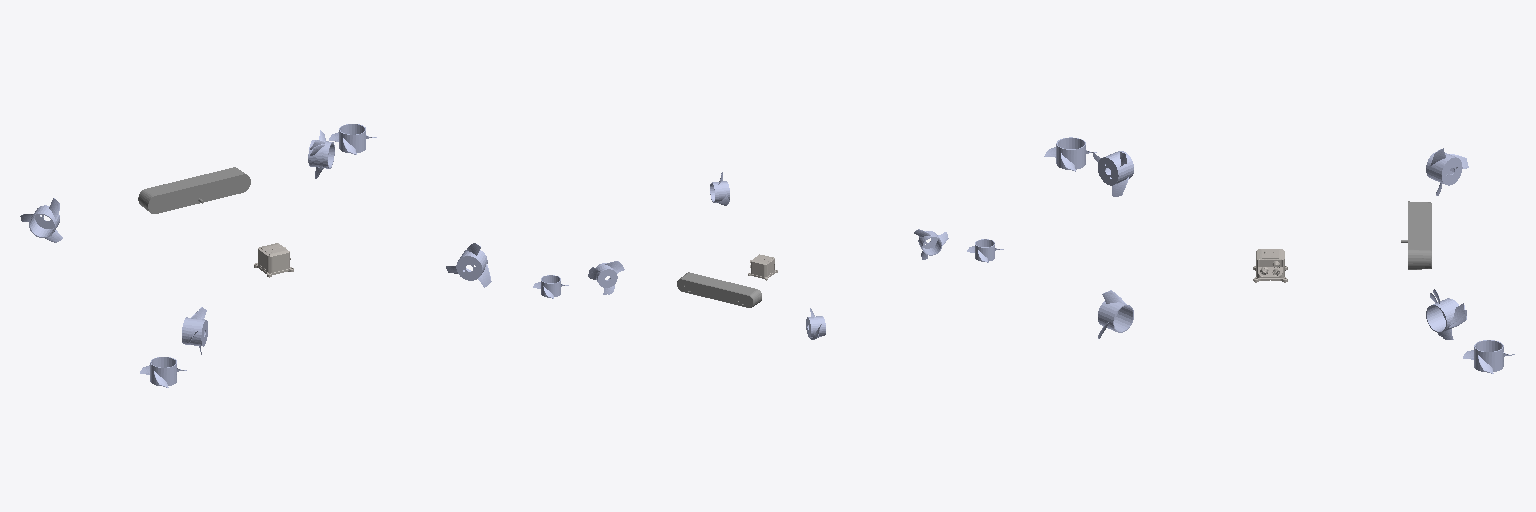
URDF robot description (lazershark_sim):
<?xml version="1.0" encoding="utf-8"?>
<!-- This URDF was automatically created by SolidWorks to URDF Exporter! Originally created by Stephen Brawner ([email redacted]) 
     Commit Version: 1.6.0-4-g7f85cfe  Build Version: 1.6.7995.38578
     For more information, please see http://wiki.ros.org/sw_urdf_exporter -->
<robot
  name="lazershark_sim">
  <link
    name="base_link">
    <inertial>
      <origin
        xyz="3.1983252038722E-05 -0.00264590585142523 0.00263265439840717"
        rpy="0 0 0" />
      <mass
        value="5.76928449442786" />
      <inertia
        ixx="0.0592660170923199"
        ixy="-5.19155843594581E-12"
        ixz="-2.08959913557192E-13"
        iyy="0.0385938644471916"
        iyz="-1.90870298266648E-12"
        izz="0.0948894530293094" />
    </inertial>
    <visual>
      <origin
        xyz="0 0 0"
        rpy="0 0 0" />
      <geometry>
        <mesh
          filename="package://lazershark_sim/meshes/base_link.STL" />
      </geometry>
      <material
        name="">
        <color
          rgba="0.792156862745098 0.819607843137255 0.933333333333333 1" />
      </material>
    </visual>
    <collision>
      <origin
        xyz="0 0 0"
        rpy="0 0 0" />
      <geometry>
        <mesh
          filename="package://lazershark_sim/meshes/base_link.STL" />
      </geometry>
    </collision>
  </link>
  <link
    name="thruster_0">
    <inertial>
      <origin
        xyz="0.323783939287788 0.276259194388449 -0.0173777665067433"
        rpy="0 0 0" />
      <mass
        value="0.0077410181298602" />
      <inertia
        ixx="2.20800164383444E-06"
        ixy="1.14679627175493E-09"
        ixz="-2.39625705290251E-12"
        iyy="2.20699645516669E-06"
        iyz="1.6744887682856E-11"
        izz="3.21541272846937E-06" />
    </inertial>
    <visual>
      <origin
        xyz="0 0 0"
        rpy="0 0 0" />
      <geometry>
        <mesh
          filename="package://lazershark_sim/meshes/thruster_0.STL" />
      </geometry>
      <material
        name="">
        <color
          rgba="0.792156862745098 0.819607843137255 0.933333333333333 1" />
      </material>
    </visual>
    <collision>
      <origin
        xyz="0 0 0"
        rpy="0 0 0" />
      <geometry>
        <mesh
          filename="package://lazershark_sim/meshes/thruster_0.STL" />
      </geometry>
    </collision>
  </link>
  <joint
    name="thruster_joint_0"
    type="revolute">
    <origin
      xyz="0 0 0"
      rpy="0 0 0" />
    <parent
      link="base_link" />
    <child
      link="thruster_0" />
    <axis
      xyz="0 0 -1" />
    <limit
      lower="0"
      upper="30"
      effort="5"
      velocity="5" />
  </joint>
  <link
    name="thruster_1">
    <inertial>
      <origin
        xyz="0.23416 0.21739 0.0043774"
        rpy="0 0 0" />
      <mass
        value="0.0077421" />
      <inertia
        ixx="2.7116E-06"
        ixy="-5.0428E-07"
        ixz="5.3313E-10"
        iyy="2.7116E-06"
        iyz="4.4067E-10"
        izz="2.2082E-06" />
    </inertial>
    <visual>
      <origin
        xyz="0 0 0"
        rpy="0 0 0" />
      <geometry>
        <mesh
          filename="package://lazershark_sim/meshes/thruster_1.STL" />
      </geometry>
      <material
        name="">
        <color
          rgba="0.79216 0.81961 0.93333 1" />
      </material>
    </visual>
    <collision>
      <origin
        xyz="0 0 0"
        rpy="0 0 0" />
      <geometry>
        <mesh
          filename="package://lazershark_sim/meshes/thruster_1.STL" />
      </geometry>
    </collision>
  </link>
  <joint
    name="thruster_joint_1"
    type="revolute">
    <origin
      xyz="0 0 0"
      rpy="0 0 0" />
    <parent
      link="base_link" />
    <child
      link="thruster_1" />
    <axis
      xyz="-0.707106781186549 0.707106781186546 0" />
    <limit
      lower="0"
      upper="30"
      effort="5"
      velocity="5" />
  </joint>
  <link
    name="thruster_2">
    <inertial>
      <origin
        xyz="0.234157626237456 -0.229457744082739 0.00437406128425808"
        rpy="0 0 0" />
      <mass
        value="0.00774117141861991" />
      <inertia
        ixx="2.71149324275063E-06"
        ixy="5.03800307022355E-07"
        ixz="5.48045183010676E-10"
        iyy="2.71144419395605E-06"
        iyz="-5.57345964414083E-10"
        izz="2.20720919053482E-06" />
    </inertial>
    <visual>
      <origin
        xyz="0 0 0"
        rpy="0 0 0" />
      <geometry>
        <mesh
          filename="package://lazershark_sim/meshes/thruster_2.STL" />
      </geometry>
      <material
        name="">
        <color
          rgba="0.792156862745098 0.819607843137255 0.933333333333333 1" />
      </material>
    </visual>
    <collision>
      <origin
        xyz="0 0 0"
        rpy="0 0 0" />
      <geometry>
        <mesh
          filename="package://lazershark_sim/meshes/thruster_2.STL" />
      </geometry>
    </collision>
  </link>
  <joint
    name="thruster_joint_2"
    type="revolute">
    <origin
      xyz="0 0 0"
      rpy="0 0 0" />
    <parent
      link="base_link" />
    <child
      link="thruster_2" />
    <axis
      xyz="-0.707106781186544 -0.707106781186551 0" />
    <limit
      lower="0"
      upper="30"
      effort="5"
      velocity="5" />
  </joint>
  <link
    name="thruster_3">
    <inertial>
      <origin
        xyz="-0.234092984343292 -0.229456600348887 0.00437741205399081"
        rpy="0 0 0" />
      <mass
        value="0.00774208667120787" />
      <inertia
        ixx="2.7116145591577E-06"
        ixy="-5.04278878343059E-07"
        ixz="-5.32978321791195E-10"
        iyy="2.71159769781301E-06"
        iyz="-4.40645678582506E-10"
        izz="2.20821716534477E-06" />
    </inertial>
    <visual>
      <origin
        xyz="0 0 0"
        rpy="0 0 0" />
      <geometry>
        <mesh
          filename="package://lazershark_sim/meshes/thruster_3.STL" />
      </geometry>
      <material
        name="">
        <color
          rgba="0.792156862745098 0.819607843137255 0.933333333333333 1" />
      </material>
    </visual>
    <collision>
      <origin
        xyz="0 0 0"
        rpy="0 0 0" />
      <geometry>
        <mesh
          filename="package://lazershark_sim/meshes/thruster_3.STL" />
      </geometry>
    </collision>
  </link>
  <joint
    name="thruster_joint_3"
    type="continuous">
    <origin
      xyz="0 0 0"
      rpy="0 0 0" />
    <parent
      link="base_link" />
    <child
      link="thruster_3" />
    <axis
      xyz="0.707106781186551 -0.707106781186544 0" />
    <limit
      lower="0"
      upper="30"
      effort="5"
      velocity="5" />
  </joint>
  <link
    name="thruster_4">
    <inertial>
      <origin
        xyz="0.323785318854056 -0.288321054570899 -0.0173774496220339"
        rpy="0 0 0" />
      <mass
        value="0.00773999758129765" />
      <inertia
        ixx="2.20644702020723E-06"
        ixy="9.77384809847219E-11"
        ixz="-1.65398212635207E-11"
        iyy="2.20797104418765E-06"
        iyz="-7.26901607289363E-12"
        izz="3.2148306516272E-06" />
    </inertial>
    <visual>
      <origin
        xyz="0 0 0"
        rpy="0 0 0" />
      <geometry>
        <mesh
          filename="package://lazershark_sim/meshes/thruster_4.STL" />
      </geometry>
      <material
        name="">
        <color
          rgba="0.792156862745098 0.819607843137255 0.933333333333333 1" />
      </material>
    </visual>
    <collision>
      <origin
        xyz="0 0 0"
        rpy="0 0 0" />
      <geometry>
        <mesh
          filename="package://lazershark_sim/meshes/thruster_4.STL" />
      </geometry>
    </collision>
  </link>
  <joint
    name="thruster_joint_4"
    type="revolute">
    <origin
      xyz="0 0 0"
      rpy="0 0 0" />
    <parent
      link="base_link" />
    <child
      link="thruster_4" />
    <axis
      xyz="0 0 -1" />
    <limit
      lower="0"
      upper="30"
      effort="5"
      velocity="5" />
  </joint>
  <link
    name="thruster_5">
    <inertial>
      <origin
        xyz="-0.234091044934303 0.217389360781946 0.00437544851520705"
        rpy="0 0 0" />
      <mass
        value="0.00774152572047315" />
      <inertia
        ixx="2.71170960756965E-06"
        ixy="5.03685533391387E-07"
        ixz="-2.76374605222843E-10"
        iyy="2.7117423364615E-06"
        iyz="2.26652392888892E-10"
        izz="2.20699309720568E-06" />
    </inertial>
    <visual>
      <origin
        xyz="0 0 0"
        rpy="0 0 0" />
      <geometry>
        <mesh
          filename="package://lazershark_sim/meshes/thruster_5.STL" />
      </geometry>
      <material
        name="">
        <color
          rgba="0.792156862745098 0.819607843137255 0.933333333333333 1" />
      </material>
    </visual>
    <collision>
      <origin
        xyz="0 0 0"
        rpy="0 0 0" />
      <geometry>
        <mesh
          filename="package://lazershark_sim/meshes/thruster_5.STL" />
      </geometry>
    </collision>
  </link>
  <joint
    name="thruster_joint_5"
    type="revolute">
    <origin
      xyz="0 0 0"
      rpy="0 0 0" />
    <parent
      link="base_link" />
    <child
      link="thruster_5" />
    <axis
      xyz="0.70711 0.70711 0" />
    <limit
      lower="0"
      upper="30"
      effort="5"
      velocity="5" />
  </joint>
  <link
    name="thruster_6">
    <inertial>
      <origin
        xyz="-0.323718738672314 -0.28832105720429 -0.0173774499441253"
        rpy="0 0 0" />
      <mass
        value="0.00773999839485437" />
      <inertia
        ixx="2.20644757938054E-06"
        ixy="9.74818950015758E-11"
        ixz="-1.6566588274953E-11"
        iyy="2.20797120661092E-06"
        iyz="-7.34282298278948E-12"
        izz="3.21483134700482E-06" />
    </inertial>
    <visual>
      <origin
        xyz="0 0 0"
        rpy="0 0 0" />
      <geometry>
        <mesh
          filename="package://lazershark_sim/meshes/thruster_6.STL" />
      </geometry>
      <material
        name="">
        <color
          rgba="0.792156862745098 0.819607843137255 0.933333333333333 1" />
      </material>
    </visual>
    <collision>
      <origin
        xyz="0 0 0"
        rpy="0 0 0" />
      <geometry>
        <mesh
          filename="package://lazershark_sim/meshes/thruster_6.STL" />
      </geometry>
    </collision>
  </link>
  <joint
    name="thruster_joint_6"
    type="revolute">
    <origin
      xyz="0 0 0"
      rpy="0 0 0" />
    <parent
      link="base_link" />
    <child
      link="thruster_6" />
    <axis
      xyz="0 0 -1" />
    <limit
      lower="0"
      upper="30"
      effort="5"
      velocity="5" />
  </joint>
  <link
    name="thruster_7">
    <inertial>
      <origin
        xyz="-0.323718740168811 0.276254477405549 -0.0173774502964883"
        rpy="0 0 0" />
      <mass
        value="0.00773999925817228" />
      <inertia
        ixx="2.20644811431137E-06"
        ixy="9.77719283078086E-11"
        ixz="-1.66176010703873E-11"
        iyy="2.20797141463733E-06"
        iyz="-7.27591228739924E-12"
        izz="3.21483206104743E-06" />
    </inertial>
    <visual>
      <origin
        xyz="0 0 0"
        rpy="0 0 0" />
      <geometry>
        <mesh
          filename="package://lazershark_sim/meshes/thruster_7.STL" />
      </geometry>
      <material
        name="">
        <color
          rgba="0.792156862745098 0.819607843137255 0.933333333333333 1" />
      </material>
    </visual>
    <collision>
      <origin
        xyz="0 0 0"
        rpy="0 0 0" />
      <geometry>
        <mesh
          filename="package://lazershark_sim/meshes/thruster_7.STL" />
      </geometry>
    </collision>
  </link>
  <joint
    name="thruster_joint_7"
    type="revolute">
    <origin
      xyz="0 0 0"
      rpy="0 0 0" />
    <parent
      link="base_link" />
    <child
      link="thruster_7" />
    <axis
      xyz="0 0 -1" />
    <limit
      lower="0"
      upper="30"
      effort="5"
      velocity="5" />
  </joint>
  <link
    name="zed_camera_link">
    <inertial>
      <origin
        xyz="2.77038521082847E-06 0.182851326507769 0.0137084897151045"
        rpy="0 0 0" />
      <mass
        value="0.152258681193596" />
      <inertia
        ixx="2.28175456045055E-05"
        ixy="-2.40028104906181E-09"
        ixz="-6.22430178494732E-09"
        iyy="0.000372325024159044"
        iyz="-3.15958302329699E-08"
        izz="0.000374742680432966" />
    </inertial>
    <visual>
      <origin
        xyz="0 0 0"
        rpy="0 0 0" />
      <geometry>
        <mesh
          filename="package://lazershark_sim/meshes/zed_camera_link.STL" />
      </geometry>
      <material
        name="">
        <color
          rgba="0.627450980392157 0.627450980392157 0.627450980392157 1" />
      </material>
    </visual>
    <collision>
      <origin
        xyz="0 0 0"
        rpy="0 0 0" />
      <geometry>
        <mesh
          filename="package://lazershark_sim/meshes/zed_camera_link.STL" />
      </geometry>
    </collision>
  </link>
  <joint
    name="zed_camera_joint"
    type="fixed">
    <origin
      xyz="0 0 0"
      rpy="0 0 0" />
    <parent
      link="base_link" />
    <child
      link="zed_camera_link" />
    <axis
      xyz="0 0 0" />
    <limit
      lower="0"
      upper="0"
      effort="0"
      velocity="0" />
  </joint>
  <link
    name="dvl_link">
    <inertial>
      <origin
        xyz="4.993E-07 0.0028112 -0.053654"
        rpy="0 0 0" />
      <mass
        value="0.25634" />
      <inertia
        ixx="0.00022379"
        ixy="-3.6795E-10"
        ixz="-6.464E-10"
        iyy="0.0002191"
        iyz="-4.2362E-08"
        izz="0.00041828" />
    </inertial>
    <visual>
      <origin
        xyz="0 0 0"
        rpy="0 0 0" />
      <geometry>
        <mesh
          filename="package://lazershark_sim/meshes/dvl_link.STL" />
      </geometry>
      <material
        name="">
        <color
          rgba="0.79216 0.81961 0.93333 1" />
      </material>
    </visual>
    <collision>
      <origin
        xyz="0 0 0"
        rpy="0 0 0" />
      <geometry>
        <mesh
          filename="package://lazershark_sim/meshes/dvl_link.STL" />
      </geometry>
    </collision>
  </link>
  <joint
    name="dvl_joint"
    type="fixed">
    <origin
      xyz="0 0 0"
      rpy="0 0 0" />
    <parent
      link="base_link" />
    <child
      link="dvl_link" />
    <axis
      xyz="0 0 0" />
  </joint>
  <link
    name="imu_link">
    <inertial>
      <origin
        xyz="0 0 0"
        rpy="0 0 0" />
      <mass
        value="0" />
      <inertia
        ixx="0"
        ixy="0"
        ixz="0"
        iyy="0"
        iyz="0"
        izz="0" />
    </inertial>
    <visual>
      <origin
        xyz="0 0 0"
        rpy="0 0 0" />
      <geometry>
        <mesh
          filename="package://lazershark_sim/meshes/imu_link.STL" />
      </geometry>
      <material
        name="">
        <color
          rgba="0.77647 0.75686 0.73725 1" />
      </material>
    </visual>
    <collision>
      <origin
        xyz="0 0 0"
        rpy="0 0 0" />
      <geometry>
        <mesh
          filename="package://lazershark_sim/meshes/imu_link.STL" />
      </geometry>
    </collision>
  </link>
  <joint
    name="imu_joint"
    type="fixed">
    <origin
      xyz="0 0 0"
      rpy="0 0 0" />
    <parent
      link="base_link" />
    <child
      link="imu_link" />
    <axis
      xyz="0 0 0" />
    <limit
      lower="0"
      upper="0"
      effort="0"
      velocity="0" />
  </joint>
</robot>

--- What the picture shows (computed from the rendered views, not written in the file) ---
3 views of the same robot in one strip: view 1: azimuth 30°, elevation 25°; view 2: azimuth 150°, elevation 25°; view 3: azimuth 270°, elevation 25° (orthographic).
Model lazershark_sim with 12 links and 11 joints (7 revolute, 1 continuous, 3 fixed), rooted at base_link, posed every joint at zero.
Visible links, largest first — view 1: zed_camera_link, thruster_2, thruster_5, imu_link, thruster_0, thruster_6, thruster_3; view 2: zed_camera_link, thruster_3; view 3: zed_camera_link, thruster_3, thruster_2, thruster_5, thruster_0, thruster_6, imu_link, thruster_4, thruster_1.
Boxes of the visible links, x1=… form: zed_camera_link: x1=138, y1=167, x2=250, y2=213; thruster_2: x1=446, y1=243, x2=491, y2=287; thruster_5: x1=20, y1=198, x2=62, y2=242; imu_link: x1=254, y1=243, x2=293, y2=277; thruster_0: x1=329, y1=124, x2=376, y2=154; thruster_6: x1=140, y1=357, x2=186, y2=387; thruster_3: x1=182, y1=307, x2=207, y2=354; zed_camera_link: x1=677, y1=272, x2=761, y2=307; thruster_3: x1=914, y1=229, x2=948, y2=259; zed_camera_link: x1=1401, y1=201, x2=1431, y2=269; thruster_3: x1=1093, y1=151, x2=1133, y2=196; thruster_2: x1=1098, y1=290, x2=1133, y2=338; thruster_5: x1=1426, y1=148, x2=1468, y2=195; thruster_0: x1=1463, y1=340, x2=1514, y2=373; thruster_6: x1=1044, y1=137, x2=1096, y2=171; imu_link: x1=1253, y1=249, x2=1287, y2=282; thruster_4: x1=1427, y1=293, x2=1464, y2=339; thruster_1: x1=1426, y1=289, x2=1466, y2=336.
Bounding box of the posed robot: 0.7107 × 0.6365 × 0.0791 m (x, y, z).
Meshes: 12 distinct files referenced, 9 mesh visuals loaded (9 binary STL); not drawn: 3 (reference not matched to a file when rendering).
